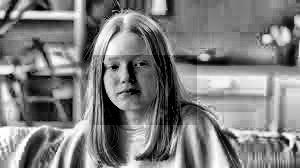sad: (93, 55, 197, 125)
